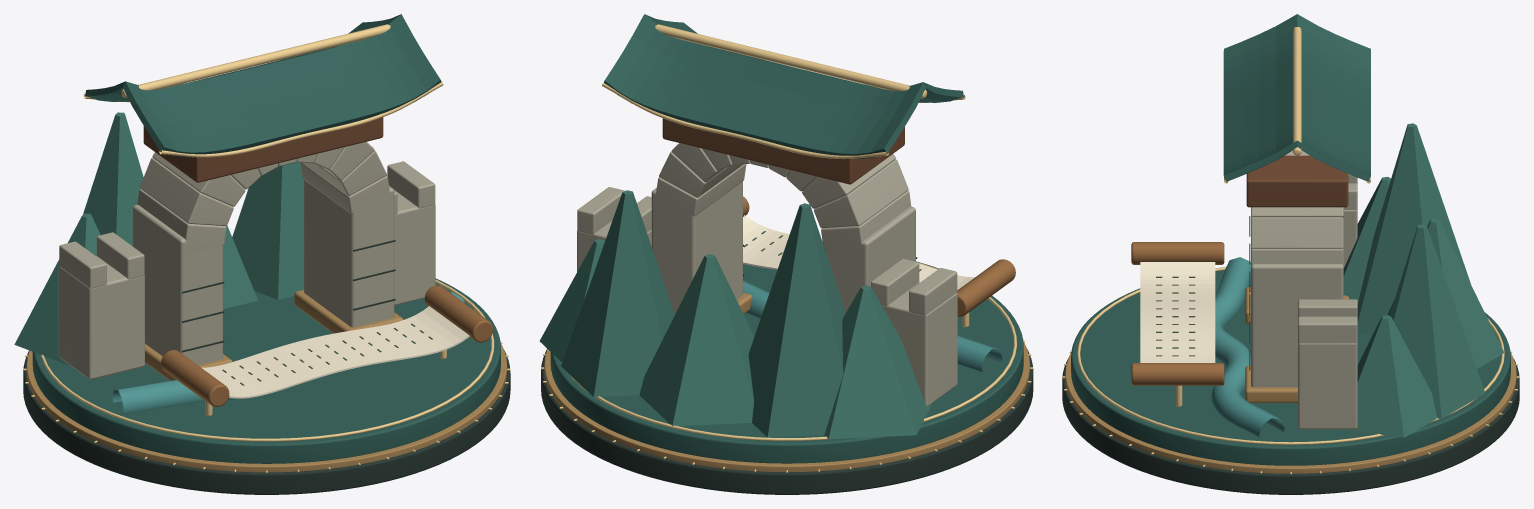
The model's file is yishui.glb.
3 renders of one model, left to right at view 1: azimuth 30°, elevation 25°; view 2: azimuth 150°, elevation 25°; view 3: azimuth 270°, elevation 25°, orthographic. The views are drawn at different scales.
Visible parts, largest first — view 1: architecture__深墨玉 · polished jade.006, architecture__燕赵砂岩.002, architecture__青绿石.002, architecture__玄色石.006, architecture__宣纸.004, architecture__旧黄铜.006, architecture__暖金镶线.006, architecture__深色书案.003, architecture__木纹边.003, architecture__滹沱青水; view 2: architecture__青绿石.002, architecture__深墨玉 · polished jade.006, architecture__燕赵砂岩.002, architecture__玄色石.006, architecture__暖金镶线.006, architecture__旧黄铜.006, architecture__深色书案.003, architecture__宣纸.004, architecture__木纹边.003, architecture__滹沱青水; view 3: architecture__深墨玉 · polished jade.006, architecture__青绿石.002, architecture__燕赵砂岩.002, architecture__玄色石.006, architecture__宣纸.004, architecture__旧黄铜.006, architecture__滹沱青水, architecture__深色书案.003, architecture__木纹边.003, architecture__暖金镶线.006.
Boxes of the visible parts, left/top/right/bottom form: architecture__深墨玉 · polished jade.006: left=32, top=14, right=500, bottom=463; architecture__燕赵砂岩.002: left=58, top=141, right=435, bottom=379; architecture__青绿石.002: left=14, top=112, right=303, bottom=366; architecture__玄色石.006: left=23, top=240, right=510, bottom=494; architecture__宣纸.004: left=202, top=306, right=469, bottom=398; architecture__旧黄铜.006: left=26, top=114, right=506, bottom=472; architecture__暖金镶线.006: left=23, top=24, right=510, bottom=473; architecture__深色书案.003: left=143, top=117, right=383, bottom=182; architecture__木纹边.003: left=161, top=285, right=493, bottom=406; architecture__滹沱青水: left=112, top=292, right=464, bottom=413; architecture__青绿石.002: left=539, top=190, right=932, bottom=438; architecture__深墨玉 · polished jade.006: left=550, top=14, right=1023, bottom=463; architecture__燕赵砂岩.002: left=577, top=143, right=957, bottom=406; architecture__玄色石.006: left=541, top=215, right=1033, bottom=494; architecture__暖金镶线.006: left=541, top=24, right=1033, bottom=472; architecture__旧黄铜.006: left=544, top=241, right=1029, bottom=472; architecture__深色书案.003: left=662, top=118, right=904, bottom=184; architecture__宣纸.004: left=743, top=215, right=974, bottom=289; architecture__木纹边.003: left=743, top=196, right=1015, bottom=316; architecture__滹沱青水: left=743, top=280, right=1002, bottom=371; architecture__深墨玉 · polished jade.006: left=1071, top=14, right=1510, bottom=465; architecture__青绿石.002: left=1343, top=123, right=1504, bottom=437; architecture__燕赵砂岩.002: left=1251, top=150, right=1357, bottom=429; architecture__玄色石.006: left=1062, top=216, right=1519, bottom=494; architecture__宣纸.004: left=1140, top=262, right=1215, bottom=362; architecture__旧黄铜.006: left=1065, top=124, right=1516, bottom=473; architecture__滹沱青水: left=1211, top=257, right=1284, bottom=437; architecture__深色书案.003: left=1246, top=155, right=1348, bottom=207; architecture__木纹边.003: left=1131, top=242, right=1224, bottom=385; architecture__暖金镶线.006: left=1062, top=27, right=1519, bottom=474.
Size of the model in its own units: 3.6 by 2.79 by 3.6.
